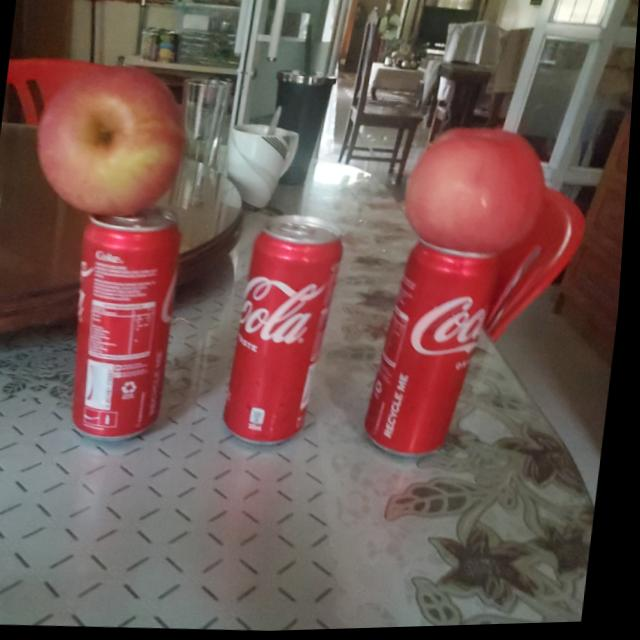apple: (33, 60, 197, 222), (398, 126, 558, 266)
coke: (365, 245, 514, 462), (66, 210, 191, 440), (227, 217, 348, 448)
